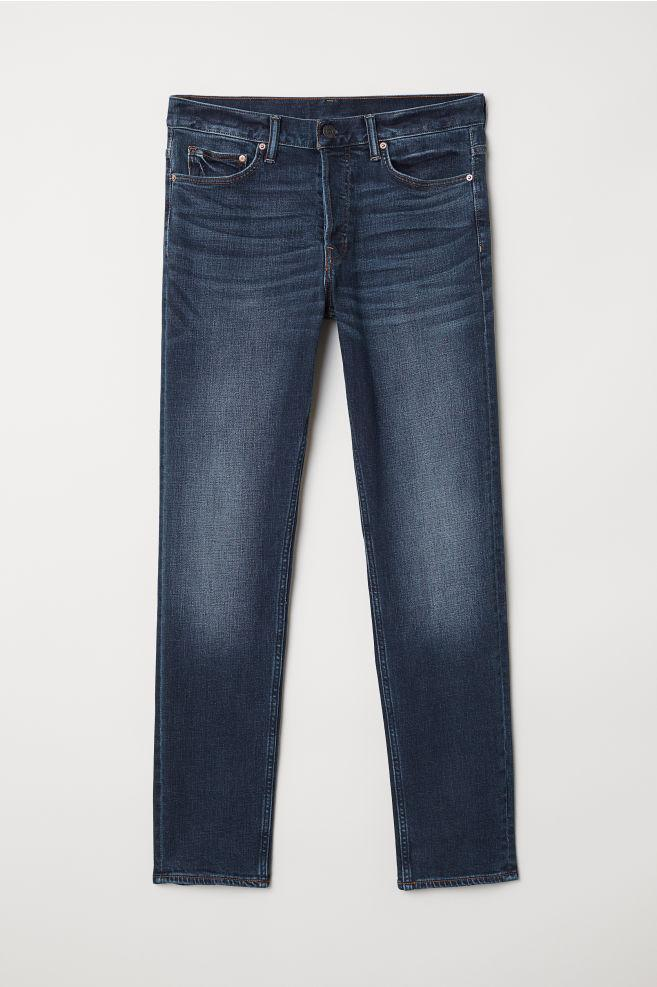Jeans: (142, 80, 531, 901)
